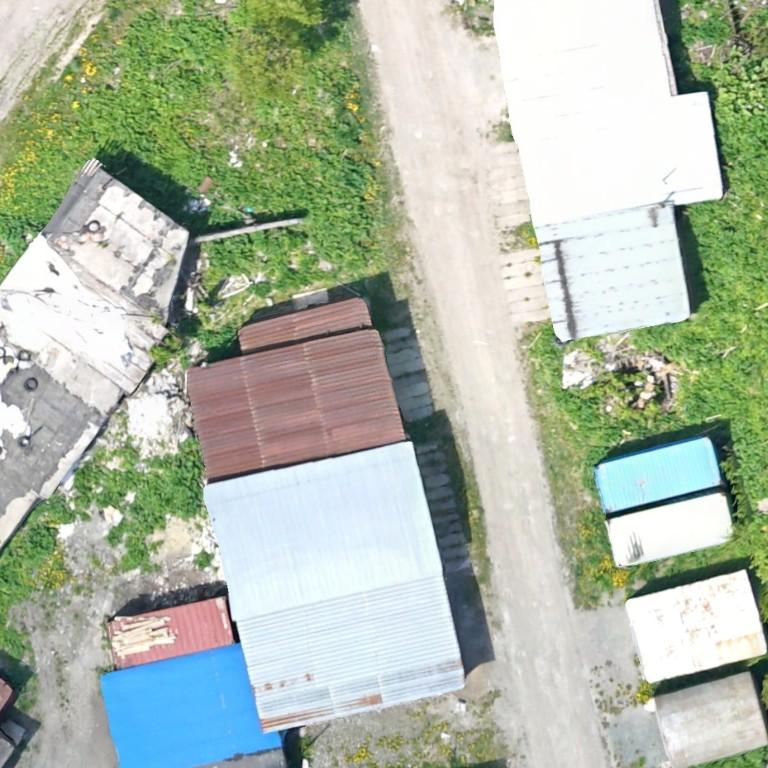hogweed: (640, 116, 767, 498), (77, 12, 227, 165), (214, 151, 371, 262), (72, 437, 205, 565), (205, 228, 304, 273), (557, 390, 601, 434), (331, 112, 361, 145), (26, 525, 58, 555), (583, 447, 607, 486)
